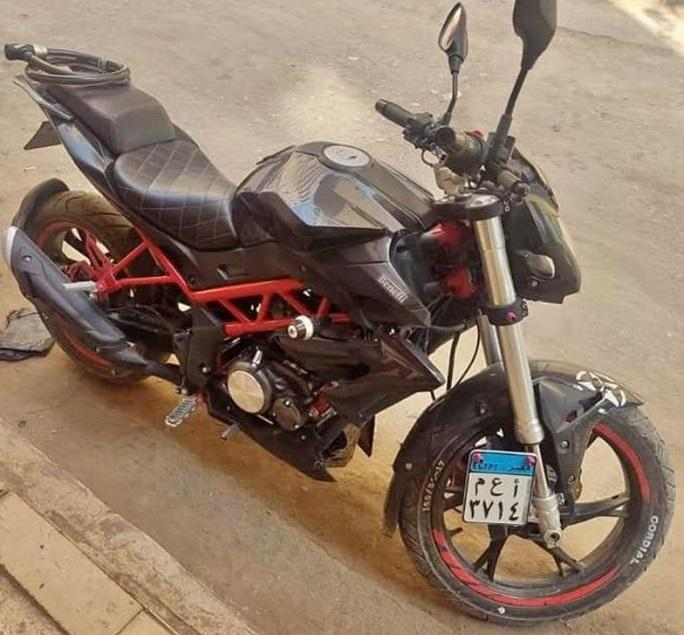License Plate: (462, 447, 537, 528)
